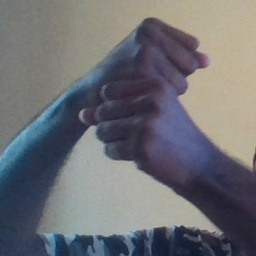G: (81, 15, 213, 173)
